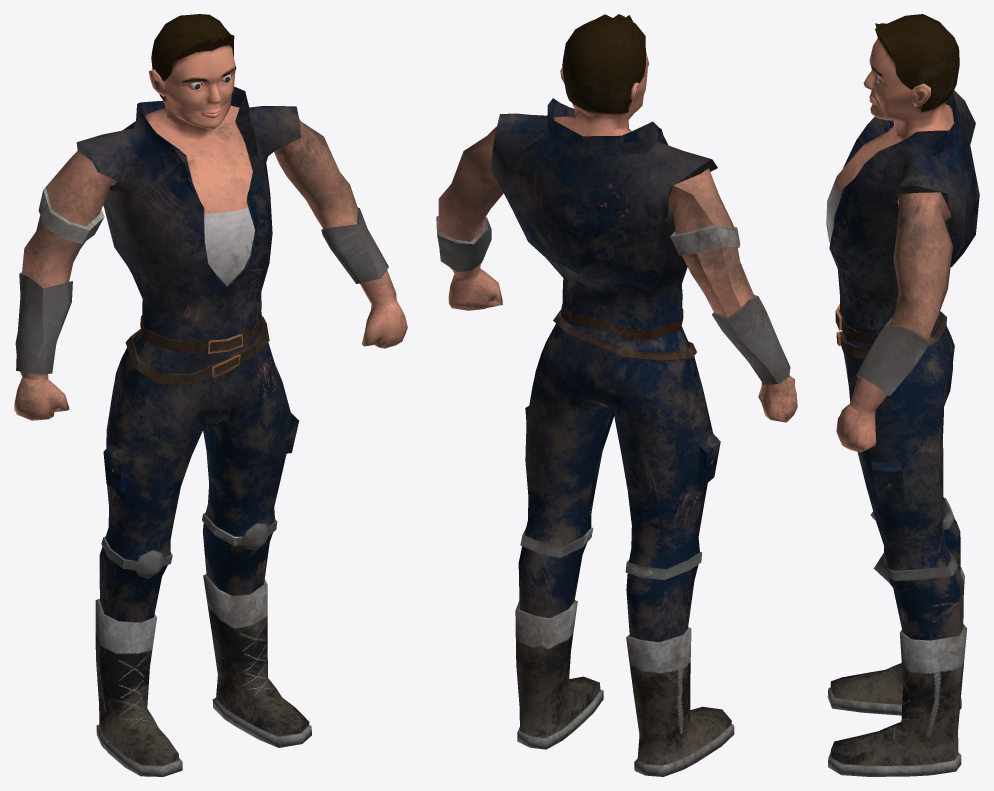
File: Anim_idle_jugador.0031.obj
3 views of the same model, side by side, from view 1: azimuth 30°, elevation 25°; view 2: azimuth 150°, elevation 25°; view 3: azimuth 270°, elevation 25° (orthographic).
Visible parts, largest first — view 1: polySurface1; view 2: polySurface1; view 3: polySurface1.
Part boxes in pixels (x1,y1,x2,y2): polySurface1: (14, 14, 407, 776); polySurface1: (436, 14, 797, 776); polySurface1: (826, 14, 979, 776).
Size of the model in its own units: 5.15 by 9.63 by 1.86.
